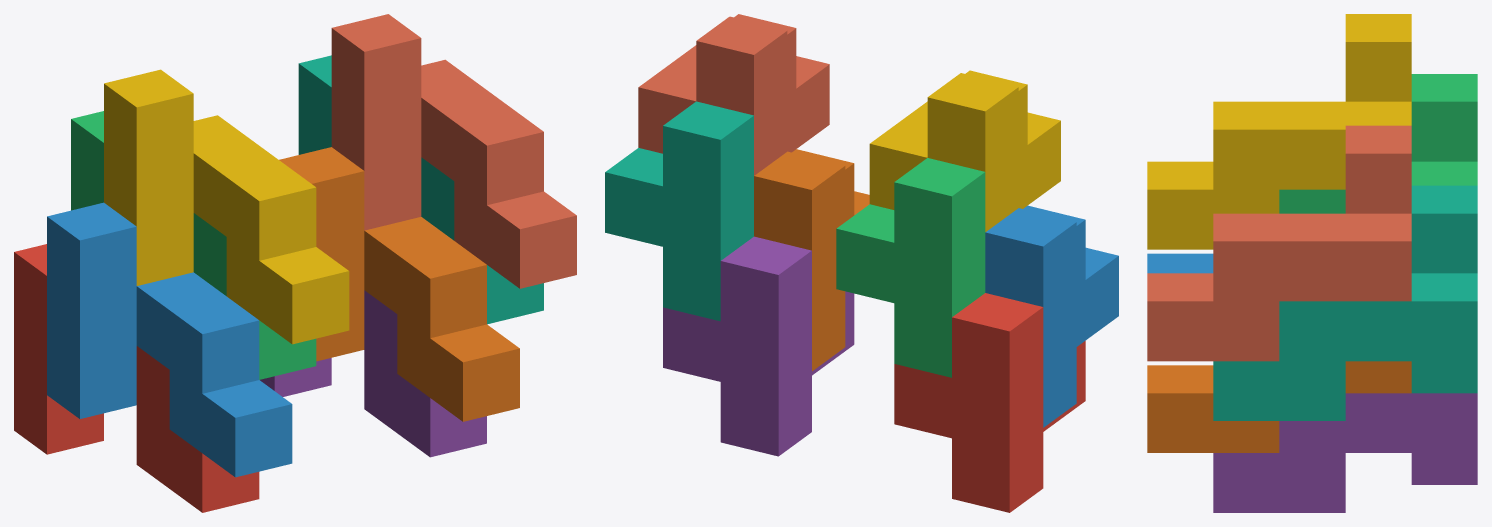
File: tiling.obj
The picture shows the model from 3 angles, left to right: view 1: azimuth 30°, elevation 25°; view 2: azimuth 150°, elevation 25°; view 3: azimuth 270°, elevation 25°; orthographic projection.
Visible parts, largest first — view 1: copy_1_domain_2, copy_1_domain_4, copy_1_domain_8, copy_1_domain_6, copy_1_domain_1, copy_1_domain_5, copy_1_domain_7, copy_1_domain_3; view 2: copy_1_domain_1, copy_1_domain_5, copy_1_domain_3, copy_1_domain_7, copy_1_domain_4, copy_1_domain_8, copy_1_domain_2, copy_1_domain_6; view 3: copy_1_domain_8, copy_1_domain_7, copy_1_domain_4, copy_1_domain_5, copy_1_domain_6, copy_1_domain_3, copy_1_domain_2.
Boxes of the visible parts, <box> form: copy_1_domain_2: <box>47,202,292,477</box>; copy_1_domain_4: <box>104,69,349,344</box>; copy_1_domain_8: <box>331,14,576,288</box>; copy_1_domain_6: <box>279,147,519,421</box>; copy_1_domain_1: <box>14,244,259,512</box>; copy_1_domain_5: <box>260,290,486,457</box>; copy_1_domain_7: <box>298,55,543,324</box>; copy_1_domain_3: <box>71,111,316,379</box>; copy_1_domain_1: <box>894,293,1085,512</box>; copy_1_domain_5: <box>663,236,854,456</box>; copy_1_domain_3: <box>836,158,985,377</box>; copy_1_domain_7: <box>605,101,753,321</box>; copy_1_domain_4: <box>869,70,1060,231</box>; copy_1_domain_8: <box>638,14,829,175</box>; copy_1_domain_2: <box>985,205,1118,427</box>; copy_1_domain_6: <box>754,149,869,371</box>; copy_1_domain_8: <box>1147,125,1411,361</box>; copy_1_domain_7: <box>1213,185,1477,420</box>; copy_1_domain_4: <box>1147,14,1411,249</box>; copy_1_domain_5: <box>1213,393,1477,512</box>; copy_1_domain_6: <box>1147,361,1411,452</box>; copy_1_domain_3: <box>1279,74,1477,213</box>; copy_1_domain_2: <box>1147,253,1213,273</box>.
Bounding box in the file's own units: 7 × 6 × 5.
